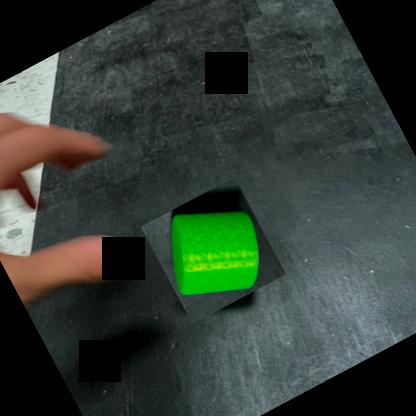green cylinder: (141, 177, 286, 324)
